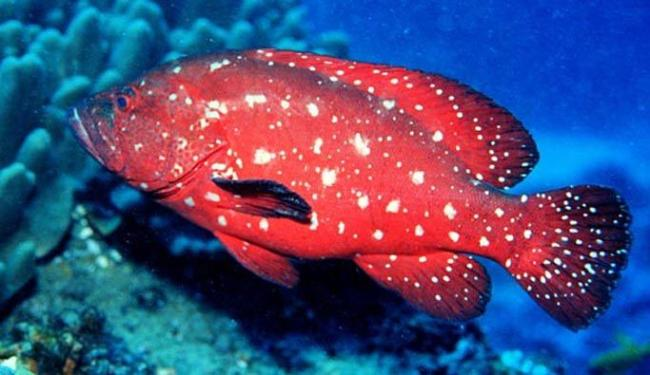fish: (70, 49, 632, 333)
